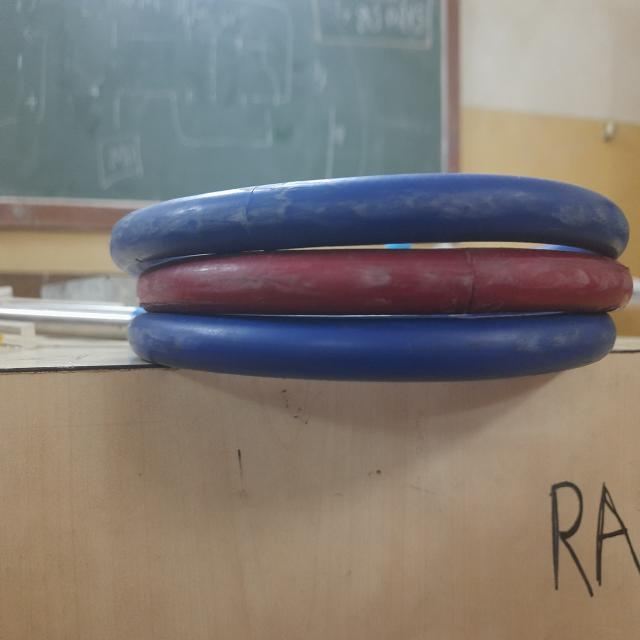daire: (108, 177, 632, 257), (137, 314, 612, 382), (143, 260, 636, 312)
